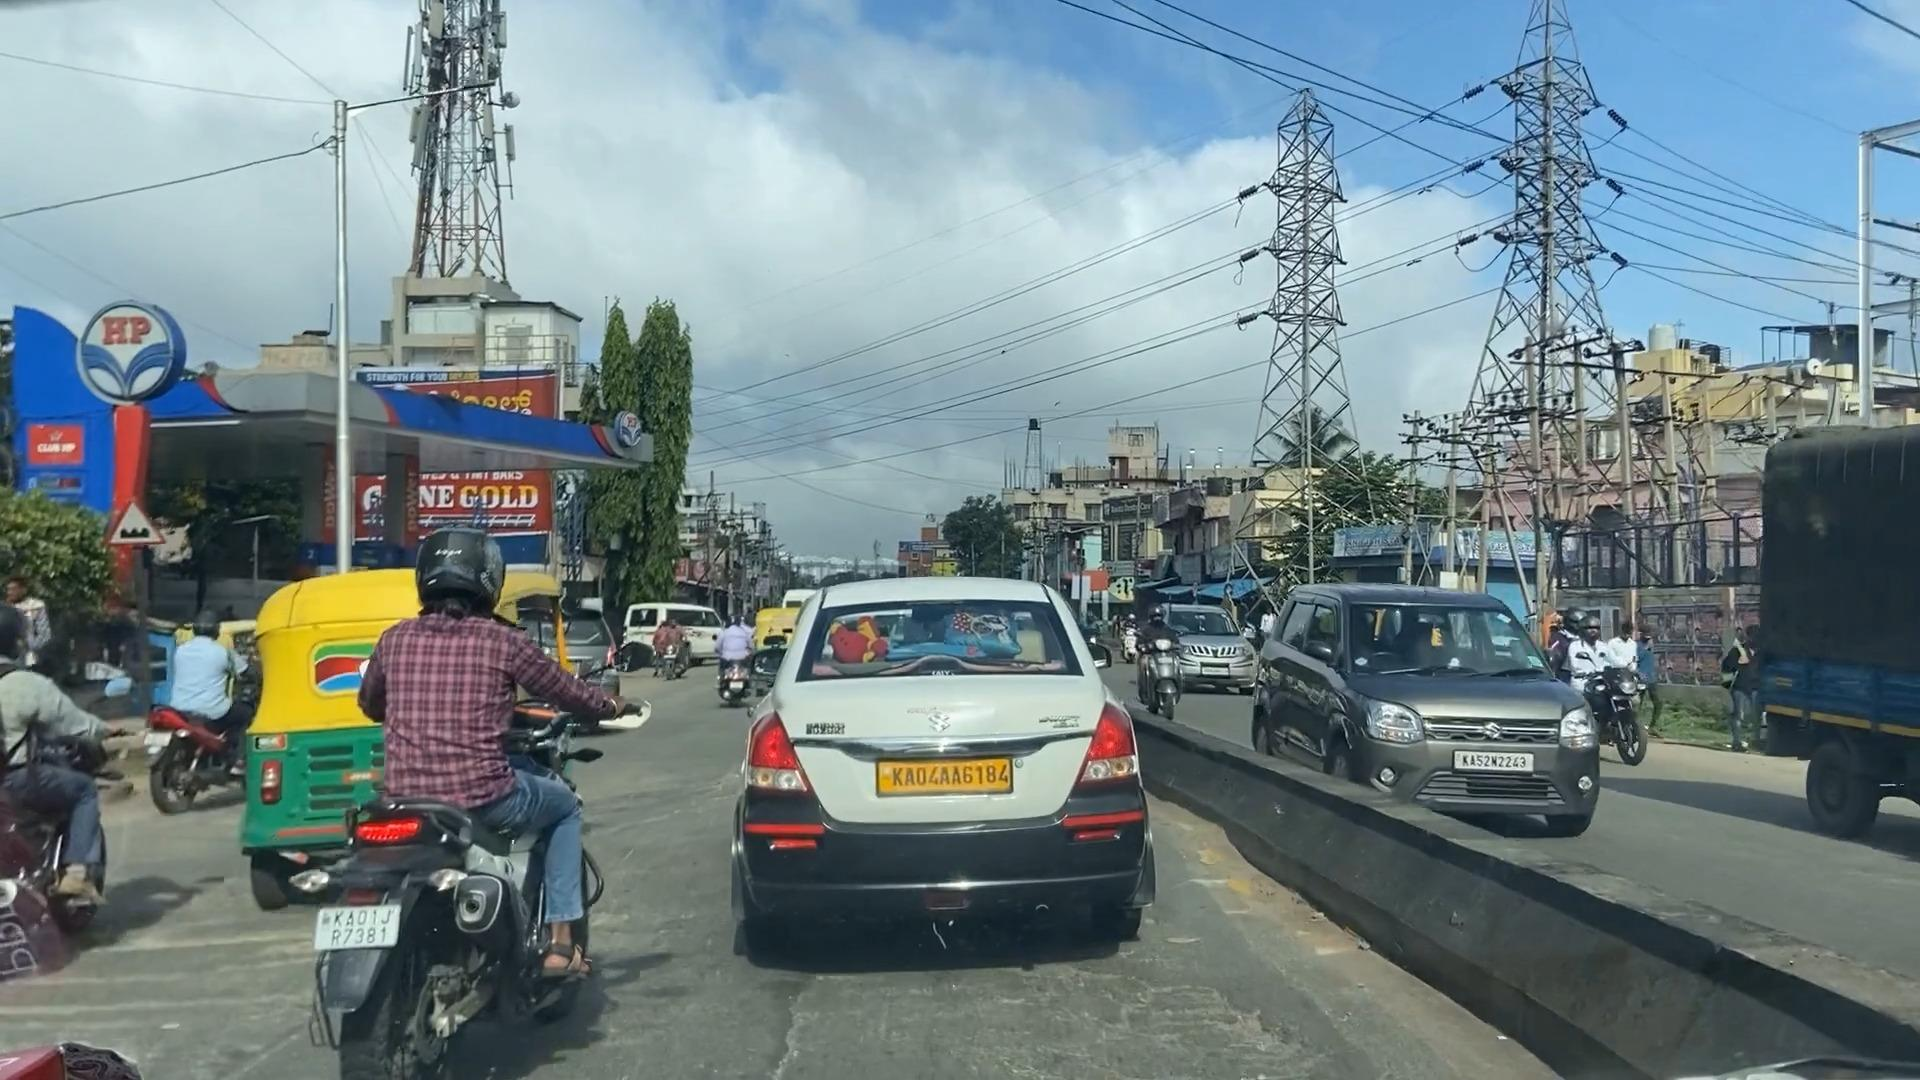LMV: (738, 578, 1137, 939), (331, 531, 559, 1069)
RoadDamages: (671, 977, 1313, 1080)
